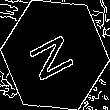N_NE: (26, 26, 84, 84)
